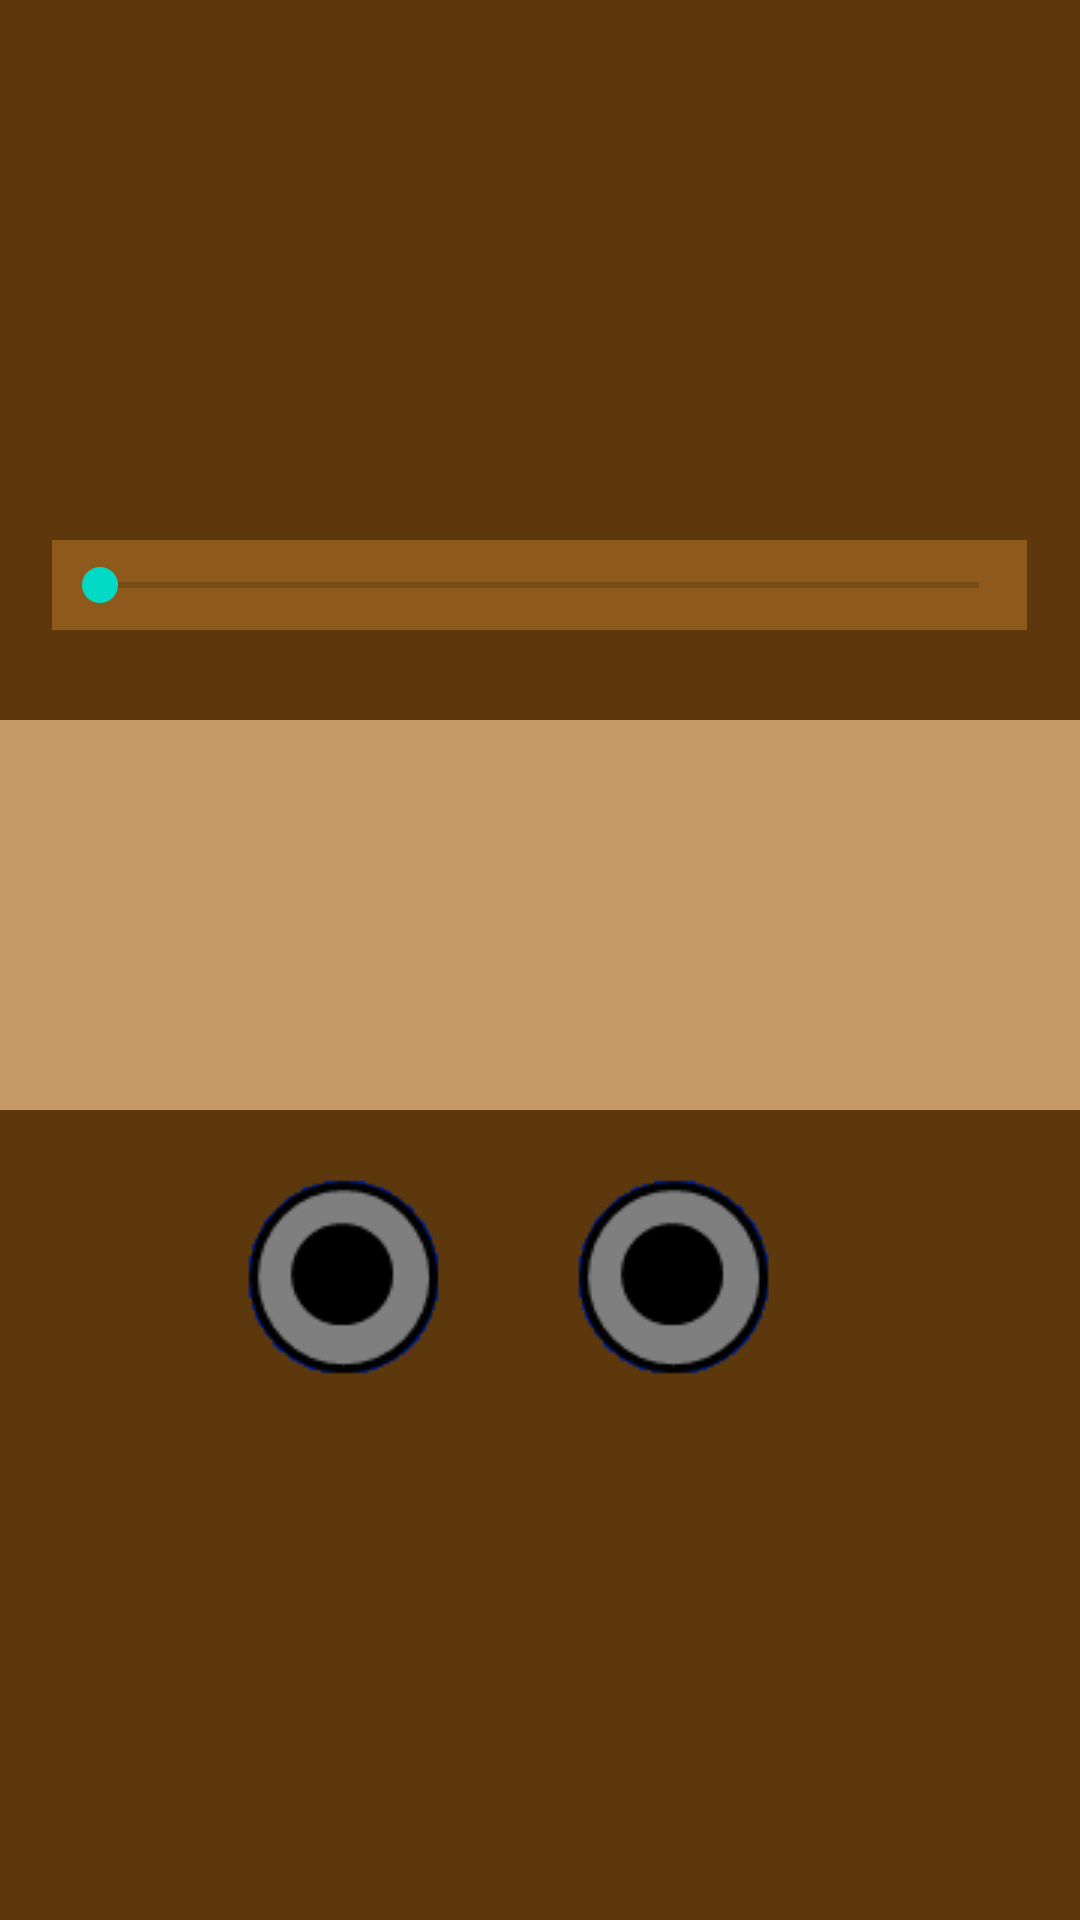

Screen size 1080×1920. Icon name, then its box in pixels as box=[x1, y1, x2, y2]:
botonguitarra: box=[248, 1180, 439, 1374], box=[578, 1180, 769, 1374]
